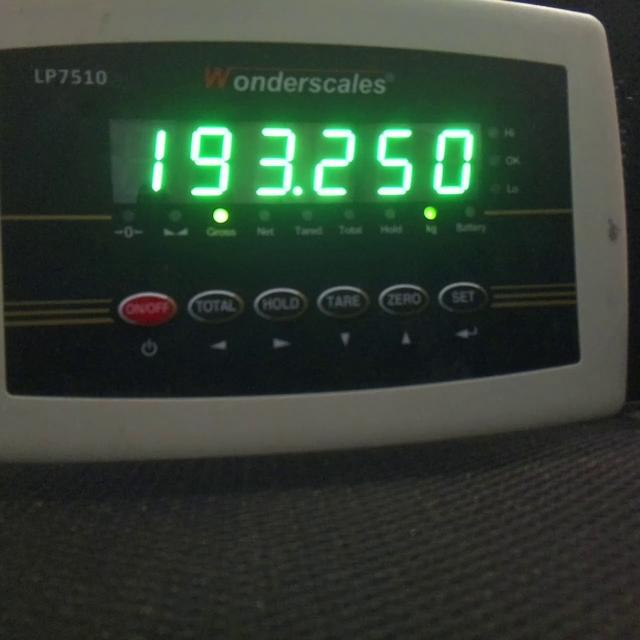.: (292, 186, 302, 196)
0: (433, 128, 473, 195)
1: (150, 129, 167, 192)
2: (312, 111, 356, 212)
3: (255, 124, 294, 197)
5: (374, 127, 414, 196)
9: (189, 126, 233, 197)
